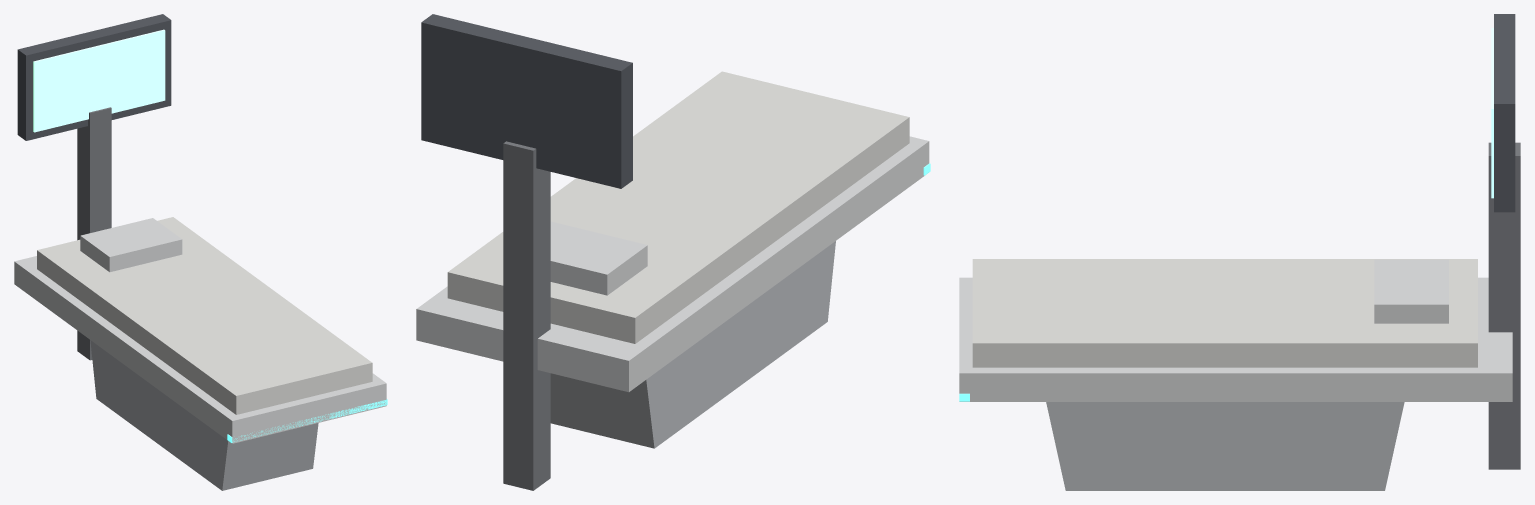
The model's file is SM_Med_Bed.glb.
3 views of the same model, side by side, from view 1: azimuth 30°, elevation 25°; view 2: azimuth 150°, elevation 25°; view 3: azimuth 270°, elevation 25° (orthographic). The views are drawn at different scales.
Visible parts, largest first — view 1: SM_Med_Bed; view 2: SM_Med_Bed; view 3: SM_Med_Bed.
Part boxes in pixels (x1=…): SM_Med_Bed: x1=14, y1=14, x2=387, y2=490; SM_Med_Bed: x1=416, y1=14, x2=930, y2=490; SM_Med_Bed: x1=959, y1=14, x2=1520, y2=490.
Bounding box in the file's own units: 0.86 × 1.68 × 2.11.
